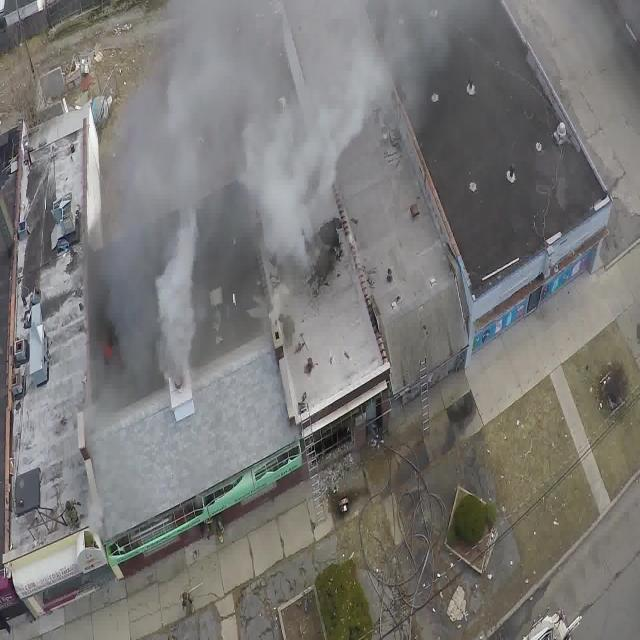Smoke: (95, 0, 453, 417)
